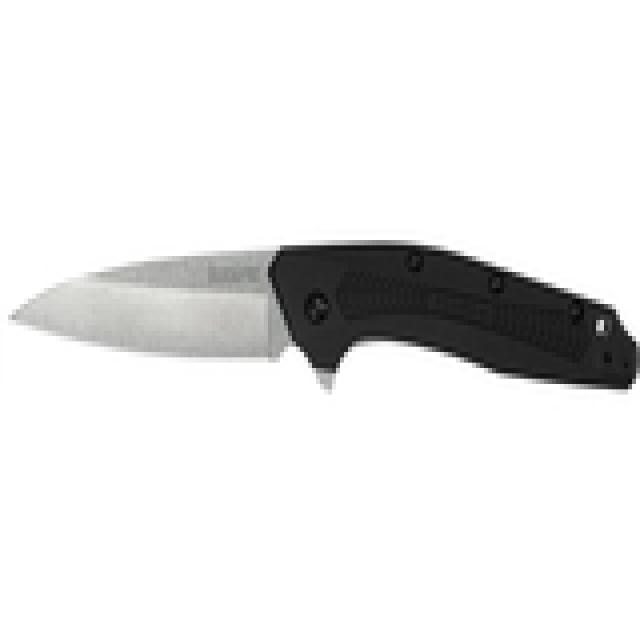Knife: (4, 203, 640, 464)
